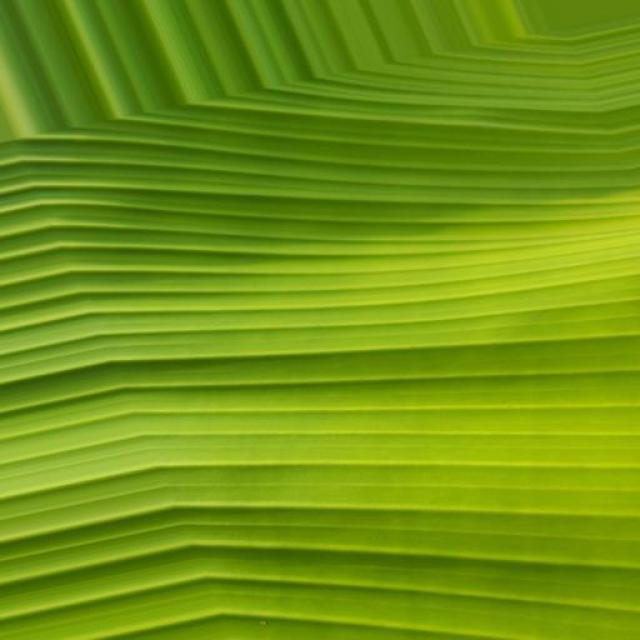Black_leaf_spot: (0, 0, 615, 626)
